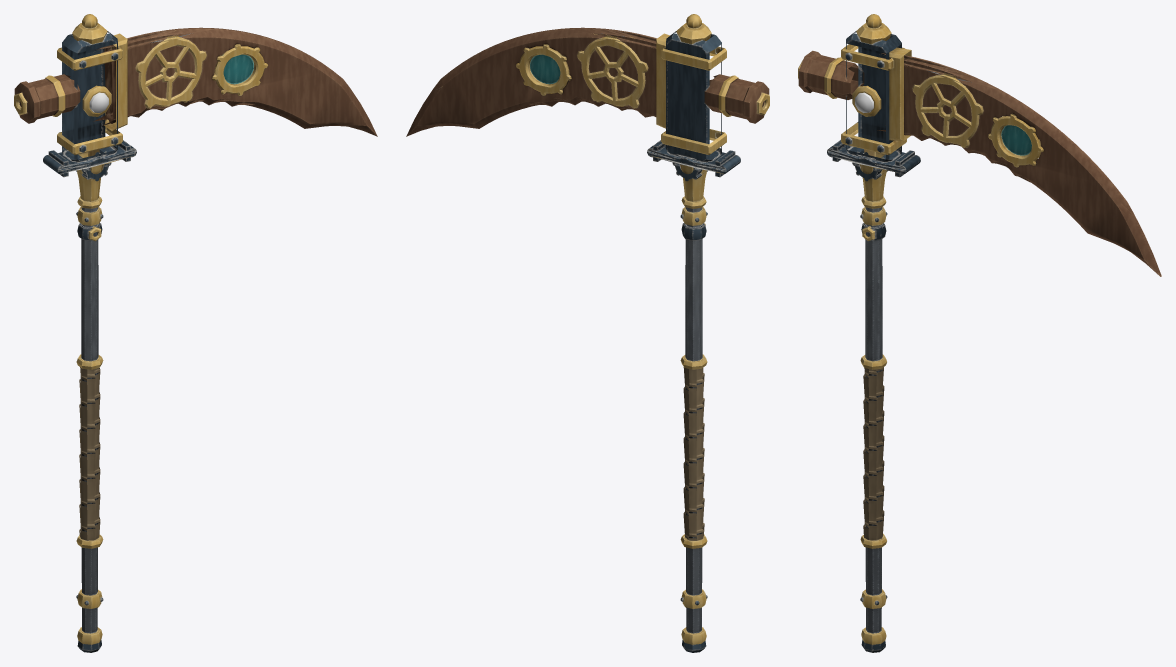
Rendered from Tidecutter.fbx.
The picture shows the model from 3 angles, left to right: view 1: azimuth 30°, elevation 25°; view 2: azimuth 150°, elevation 25°; view 3: azimuth 330°, elevation 25°; orthographic projection.
Visible parts, largest first — view 1: Tidecutter_Body; view 2: Tidecutter_Body; view 3: Tidecutter_Body.
Boxes of the visible parts, x1,y1,x2,y2 form: Tidecutter_Body: (14,14,377,652); Tidecutter_Body: (406,14,769,652); Tidecutter_Body: (798,14,1161,652).
Bounding box in the file's own units: 3.75 × 6.35 × 0.4034.
